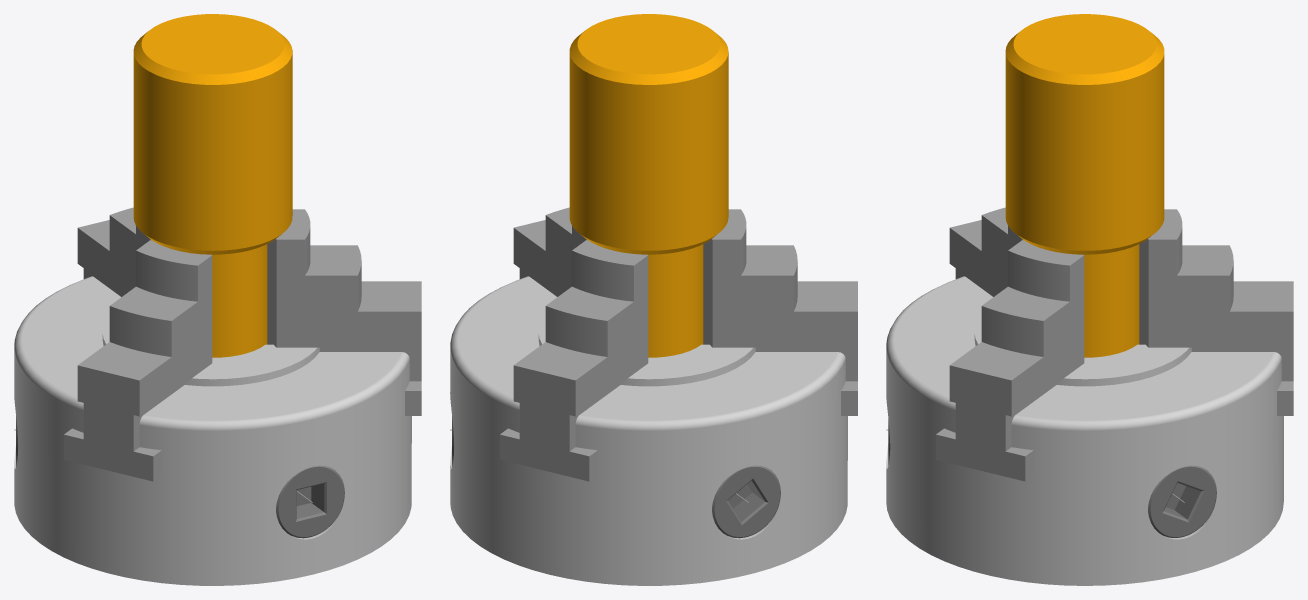
3 views of the same model, side by side, from view 1: azimuth 30°, elevation 25°; view 2: azimuth 150°, elevation 25°; view 3: azimuth 270°, elevation 25° (orthographic).
Parts seen in each view (by area): view 1: com_peca; view 2: com_peca; view 3: com_peca.
Boxes of the visible parts, <box> form: com_peca: <box>14,14,421,585</box>; com_peca: <box>450,14,857,585</box>; com_peca: <box>886,14,1293,585</box>.
Bounding box in the file's own units: 3.2 × 4.06 × 3.15.
